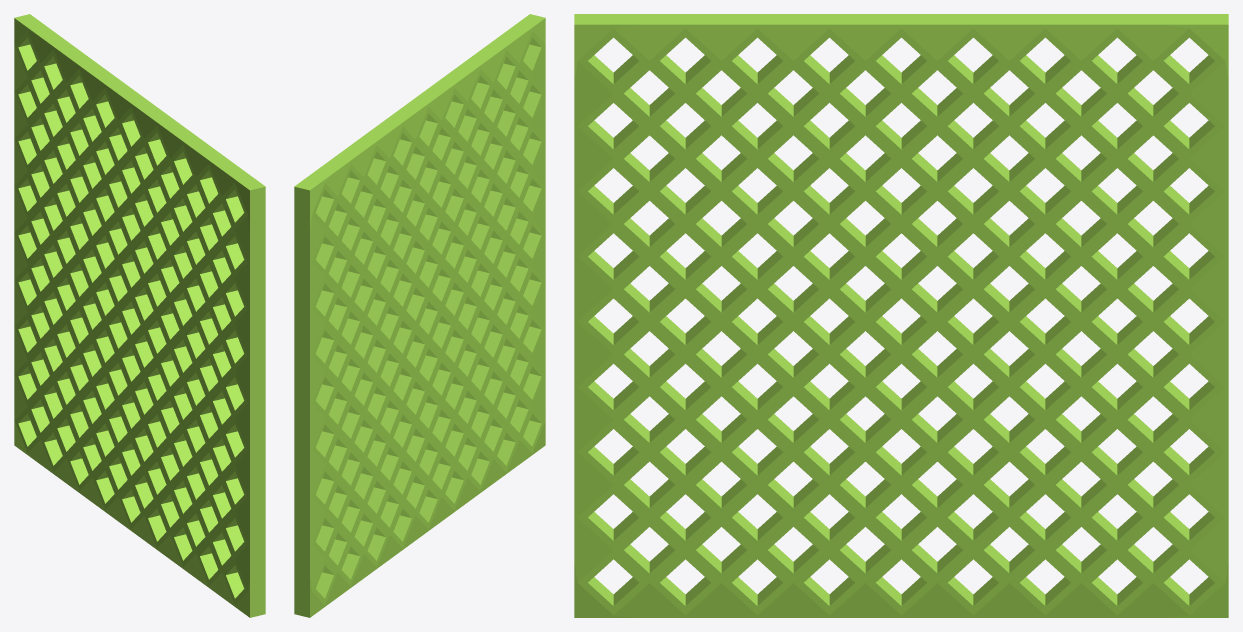
File: grate.fbx
3 views of the same model, side by side, from view 1: azimuth 30°, elevation 25°; view 2: azimuth 150°, elevation 25°; view 3: azimuth 270°, elevation 25° (orthographic). The views are drawn at different scales.
Parts seen in each view (by area): view 1: Grid; view 2: Grid; view 3: Grid.
Boxes of the visible parts, x1,y1,x2,y2 form: Grid: (14,14,265,617); Grid: (294,14,545,617); Grid: (574,14,1228,617).
Bounding box in the file's own units: 8.48 × 200 × 200.
